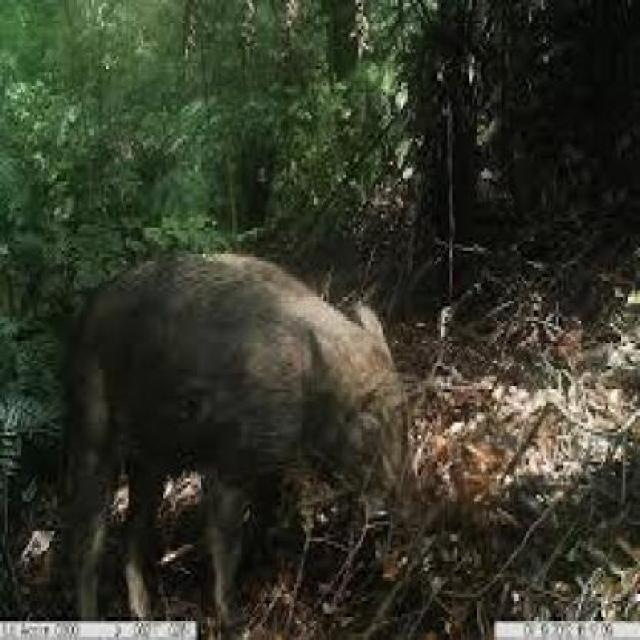Wild Boar: (20, 231, 423, 640)
